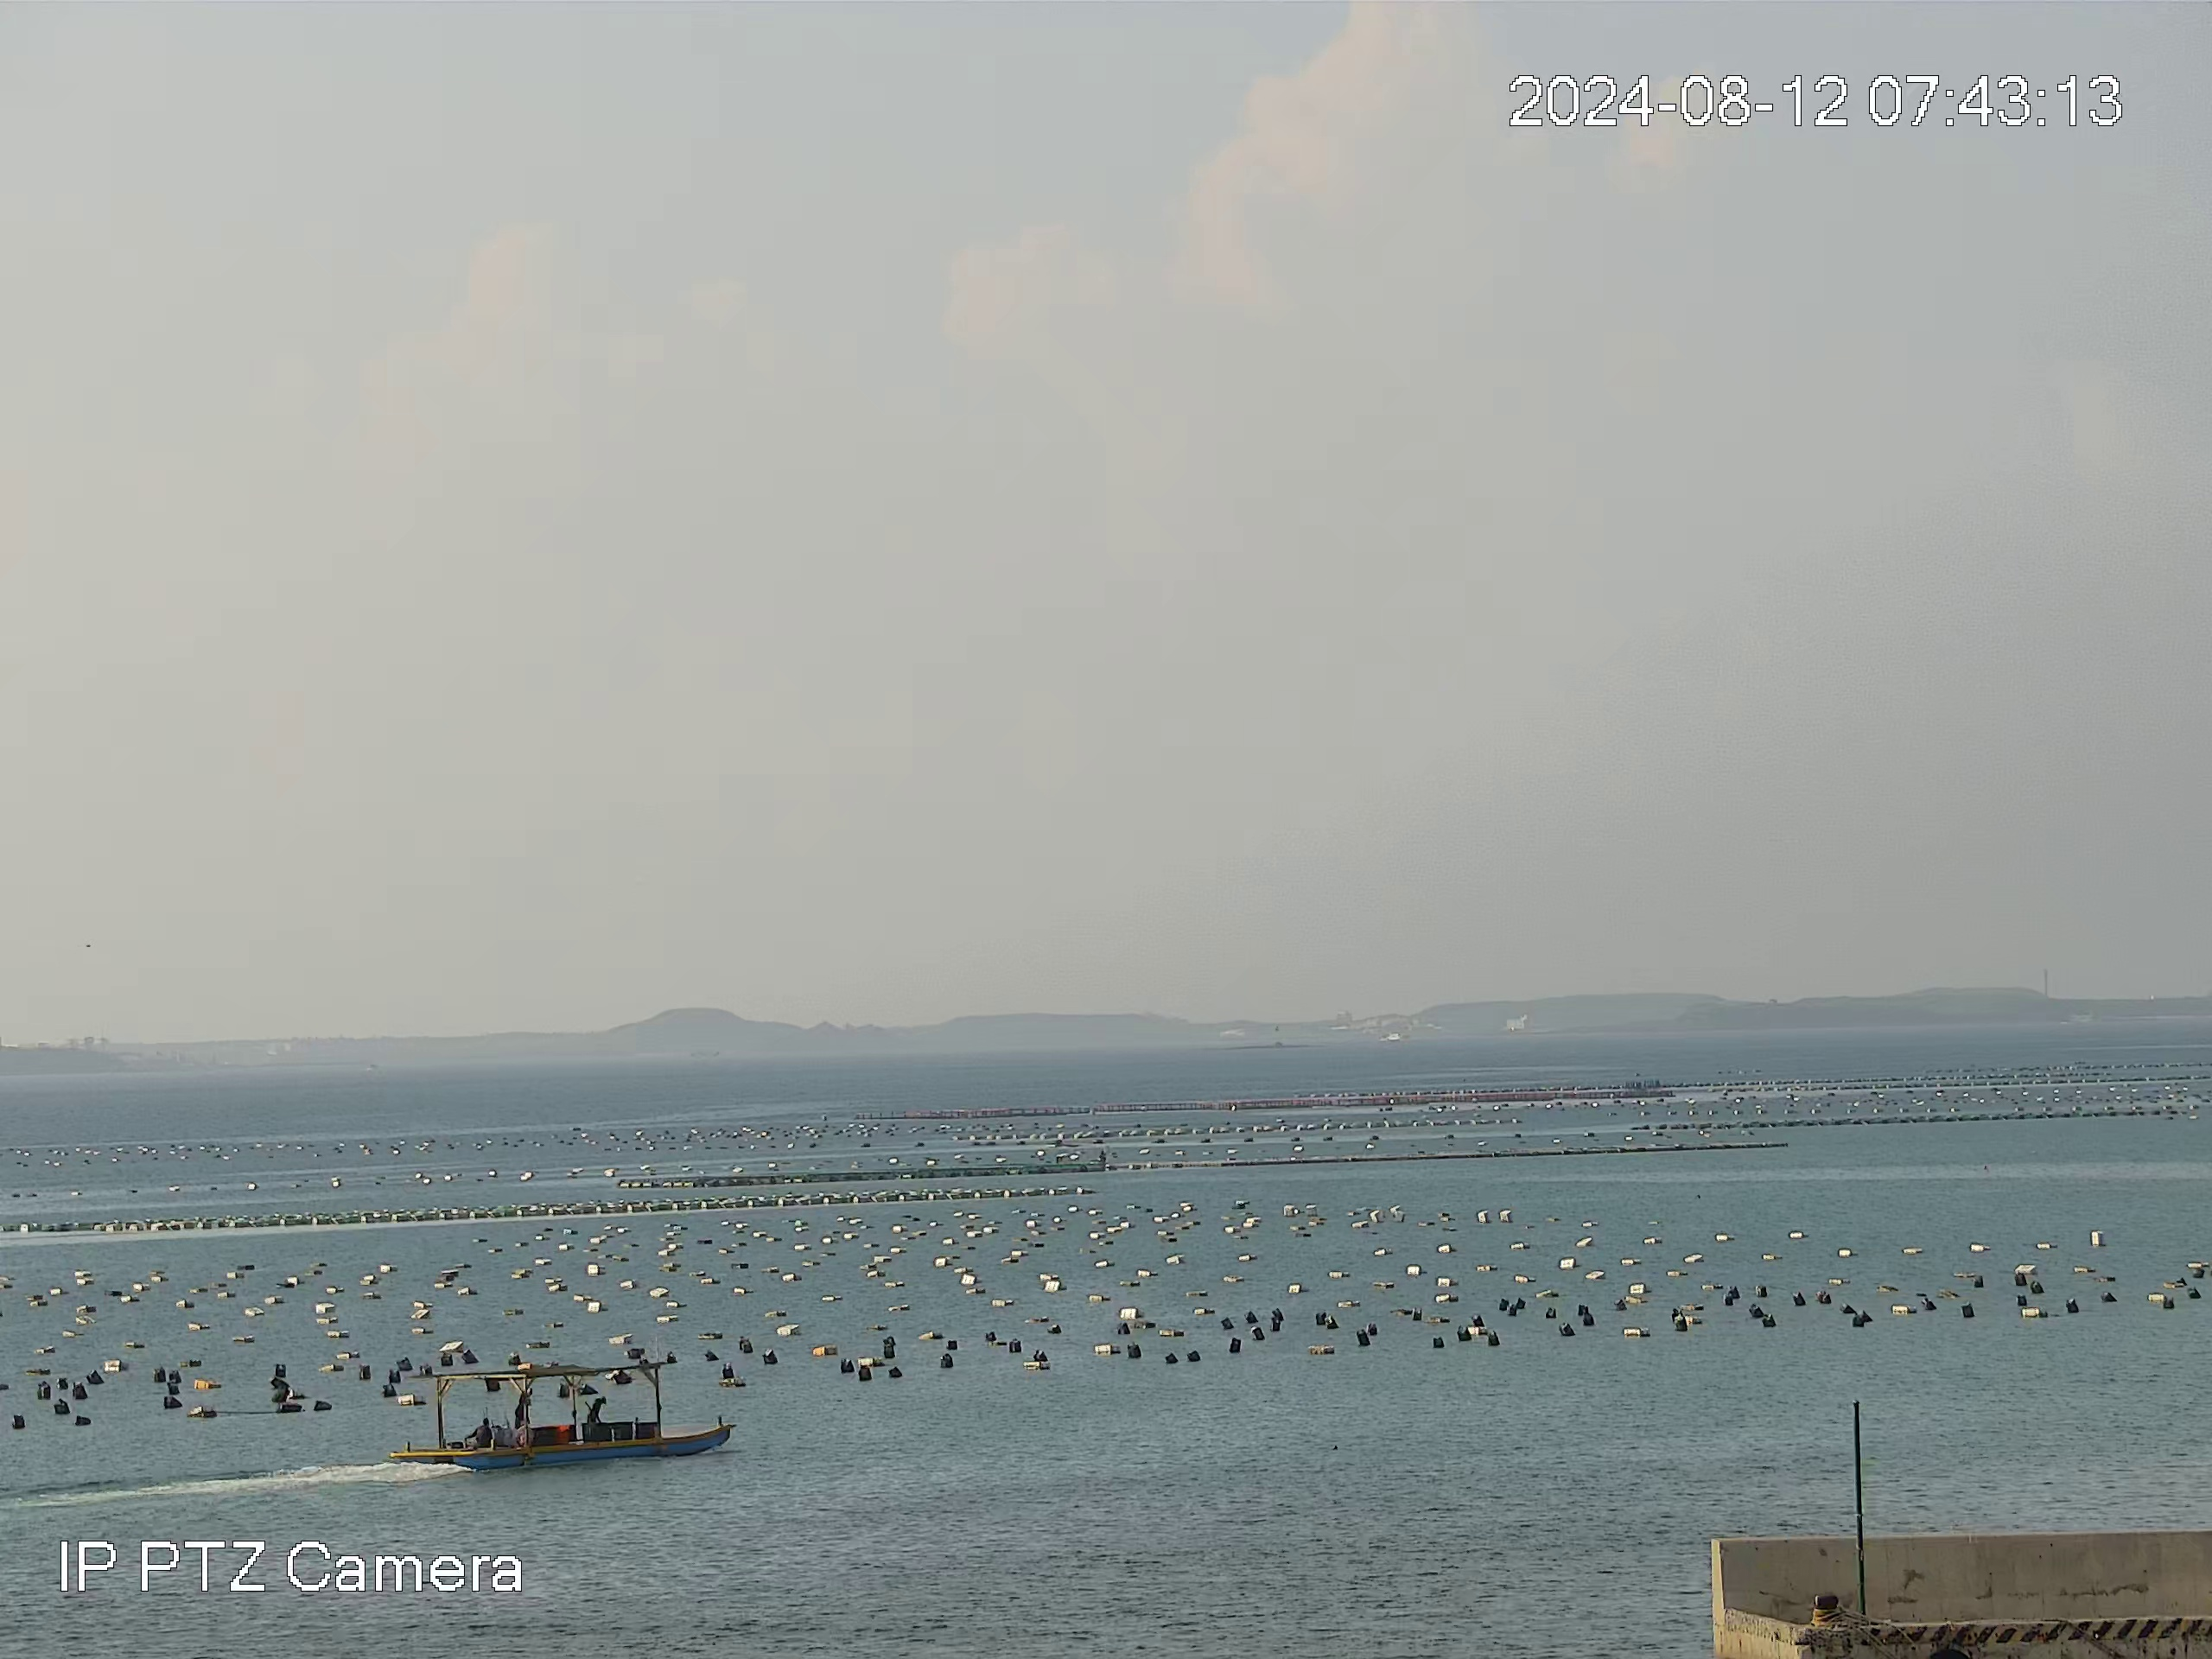boat: (387, 1359, 752, 1469)
